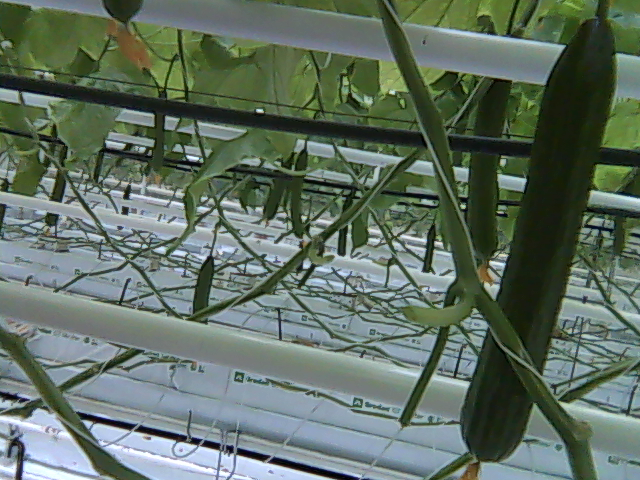concombre: (454, 9, 619, 480)
